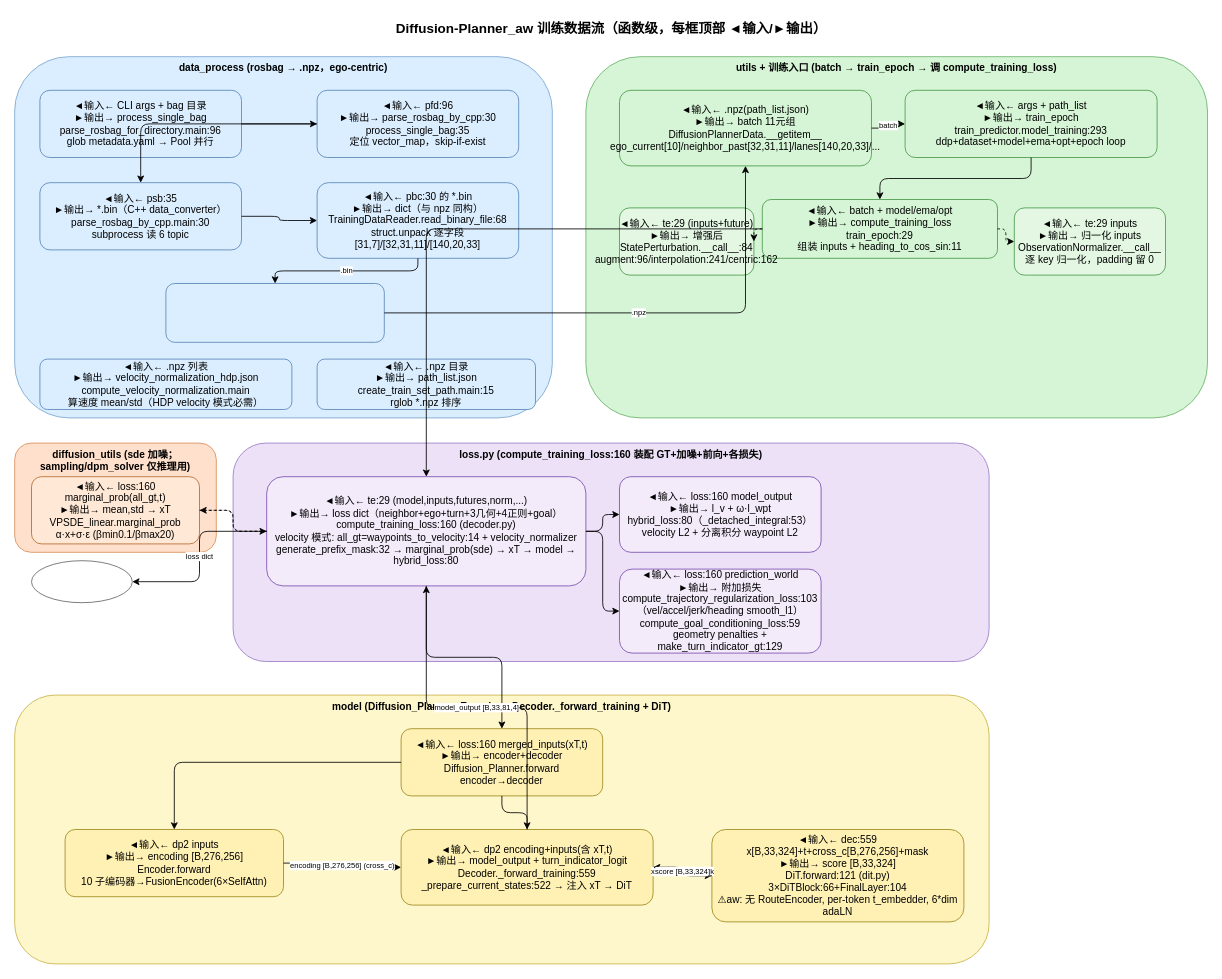
This 1222x979 diagram has some shape labels left out. Here are the shapes that lost their labels. From the top down, the centre of each, then its label:
(x=274, y=312): ◄输入← tdr:68 dict ►输出→ .npz process_single_file:223 np.savez + unlink bin
(x=81, y=581): backward
